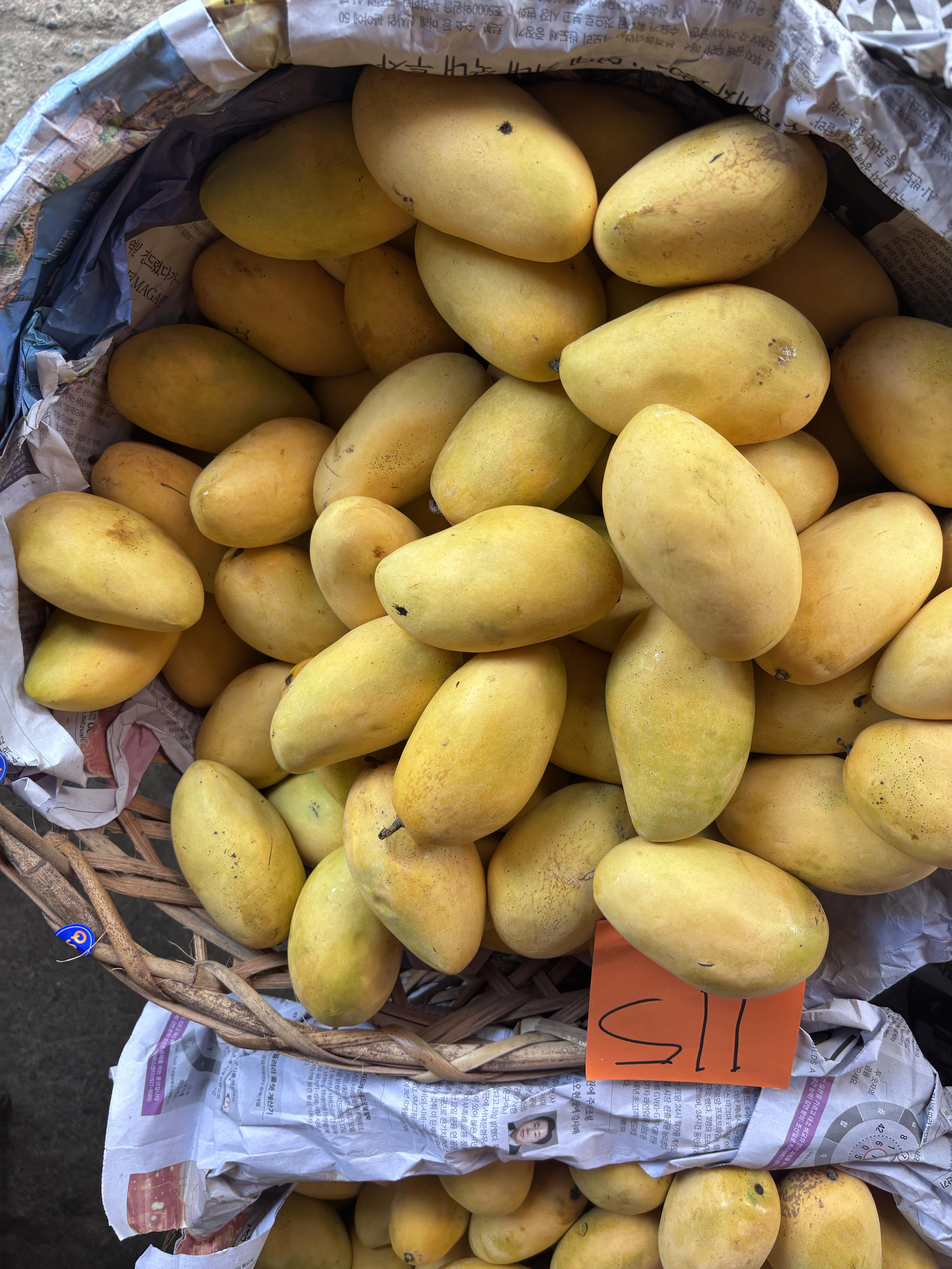mango: (603, 405, 802, 662), (375, 505, 623, 653)
occluded: (352, 65, 597, 262), (559, 283, 830, 445), (593, 116, 827, 287), (594, 836, 828, 999), (757, 492, 942, 685), (392, 643, 566, 846), (607, 606, 754, 842), (200, 101, 412, 260), (343, 761, 486, 974), (716, 756, 934, 895), (416, 224, 606, 382), (271, 616, 461, 773), (313, 352, 491, 516), (7, 491, 204, 633), (108, 325, 320, 453), (430, 376, 609, 524), (487, 782, 634, 959), (171, 760, 305, 949), (192, 238, 365, 376), (831, 317, 952, 506), (740, 211, 898, 348), (288, 847, 402, 1028), (91, 442, 227, 592), (526, 81, 686, 201), (190, 417, 334, 548), (843, 719, 952, 868), (215, 543, 348, 664), (24, 610, 180, 712), (345, 246, 464, 378), (310, 495, 424, 629), (751, 652, 893, 756), (659, 1166, 780, 1269), (195, 662, 292, 789), (468, 1162, 588, 1264), (163, 592, 268, 707), (770, 1167, 881, 1269), (872, 588, 952, 720), (550, 636, 621, 784), (738, 429, 838, 534), (265, 772, 343, 866), (256, 1193, 352, 1269), (389, 1176, 470, 1265), (550, 1207, 662, 1269), (575, 564, 652, 652), (870, 1187, 939, 1269), (570, 1162, 671, 1215), (438, 1160, 535, 1215), (311, 368, 379, 431), (355, 1182, 394, 1247), (351, 1227, 411, 1269), (314, 757, 364, 806), (399, 493, 450, 535), (419, 1233, 469, 1269), (279, 657, 314, 700), (295, 1181, 363, 1200), (440, 1257, 526, 1269), (317, 255, 352, 283), (588, 516, 609, 540), (333, 691, 333, 691)
